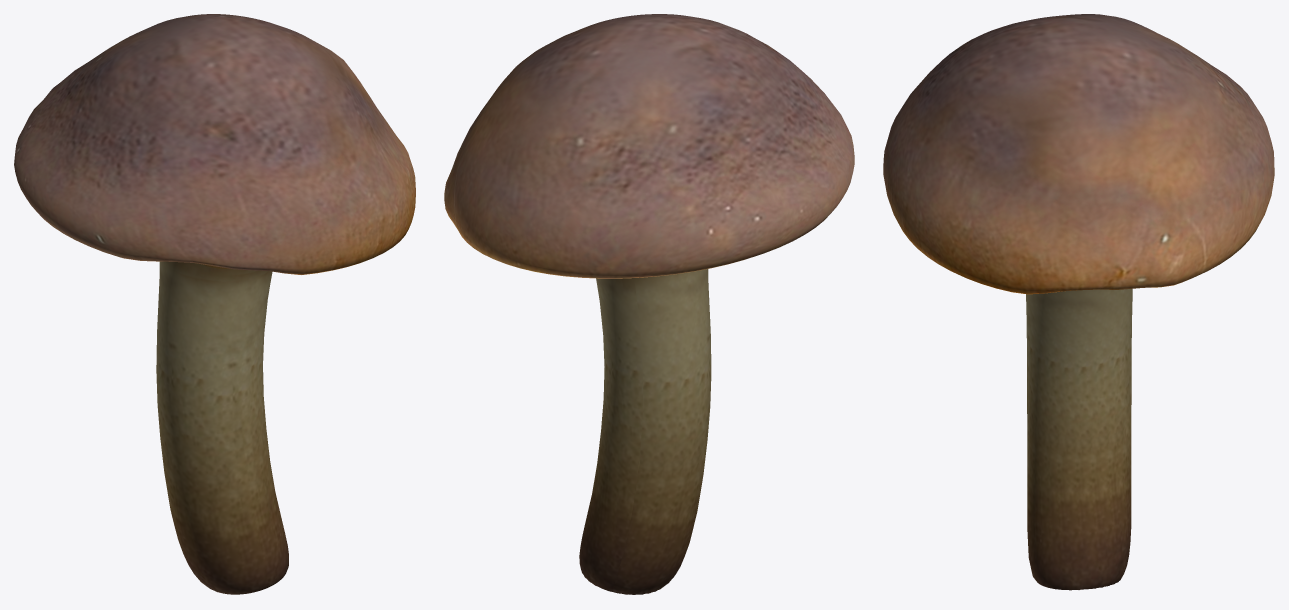
Rendered from SENE_18.fbx.
The picture shows the model from 3 angles, left to right: view 1: azimuth 30°, elevation 25°; view 2: azimuth 150°, elevation 25°; view 3: azimuth 270°, elevation 25°; orthographic projection. The views are drawn at different scales.
Parts seen in each view (by area): view 1: SENE_18; view 2: SENE_18; view 3: SENE_18.
Boxes of the visible parts, x1,y1,x2,y2 form: SENE_18: [14, 14, 415, 594]; SENE_18: [444, 14, 854, 594]; SENE_18: [883, 14, 1274, 590].
Size of the model in its own units: 47.7 by 72.05 by 46.85.
Materials: 1 (1 with a texture image).
